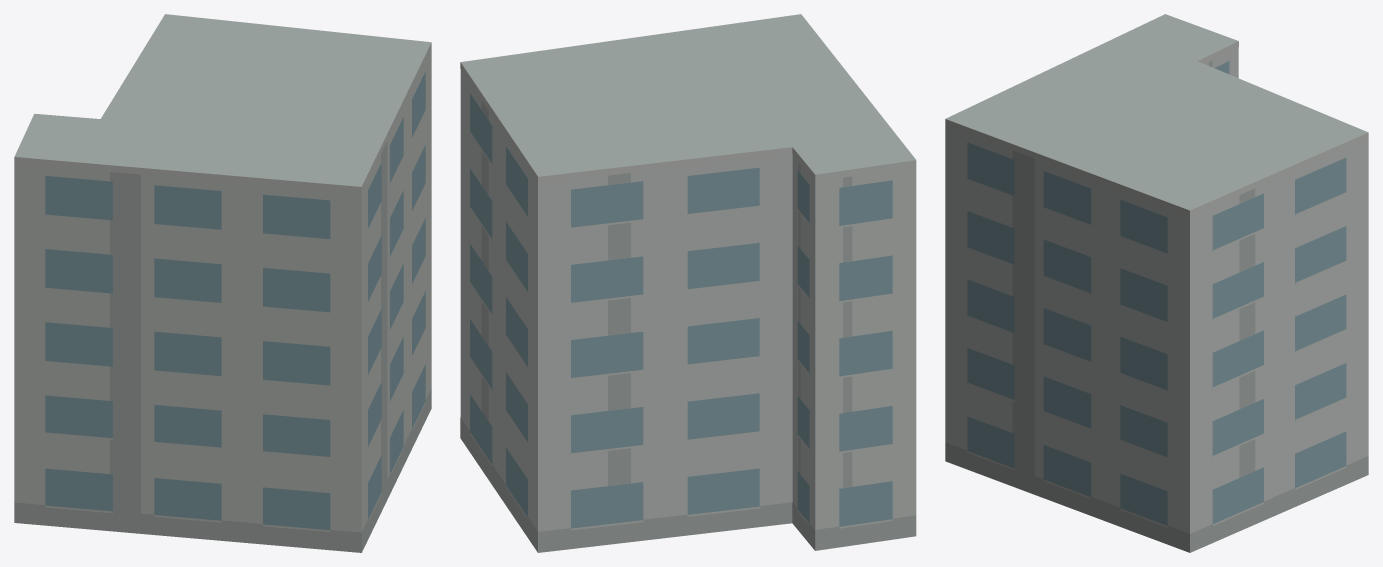
File: survey-upis-32903484.glb
3 views of the same model, side by side, from view 1: azimuth 30°, elevation 25°; view 2: azimuth 150°, elevation 25°; view 3: azimuth 270°, elevation 25° (orthographic). The views are drawn at different scales.
Parts seen in each view (by area): view 1: survey-upis-32903484.tmp; view 2: survey-upis-32903484.tmp; view 3: survey-upis-32903484.tmp.
Part boxes in pixels (<box>): survey-upis-32903484.tmp: <box>14,14,431,552</box>; survey-upis-32903484.tmp: <box>460,14,916,552</box>; survey-upis-32903484.tmp: <box>945,14,1368,552</box>.
Bounding box in the file's own units: 16.26 × 13.2 × 14.8.
